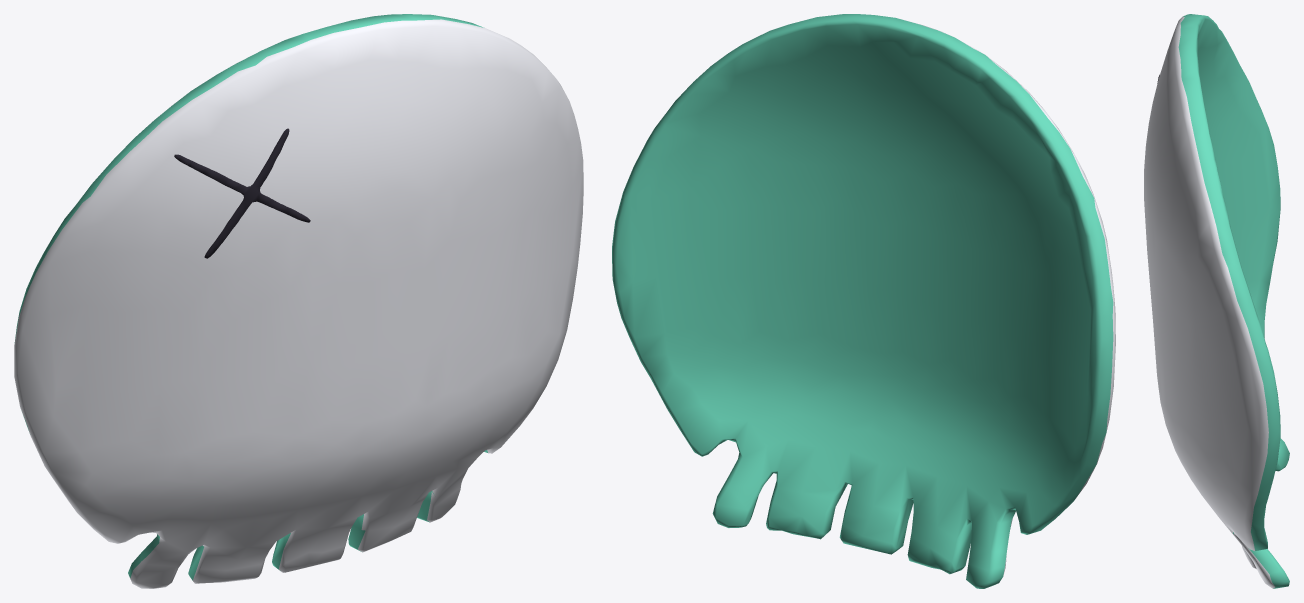
File: plate-skull-x.glb
3 renders of one model, left to right at view 1: azimuth 30°, elevation 25°; view 2: azimuth 150°, elevation 25°; view 3: azimuth 270°, elevation 25°, orthographic. The views are drawn at different scales.
Visible parts, largest first — view 1: plate-skull-x; view 2: plate-skull-x; view 3: plate-skull-x.
Boxes of the visible parts, <box> form: plate-skull-x: <box>14,14,583,588</box>; plate-skull-x: <box>612,14,1115,588</box>; plate-skull-x: <box>1144,14,1289,588</box>.
Size of the model in its own units: 0.5735 by 0.5461 by 0.1486.
